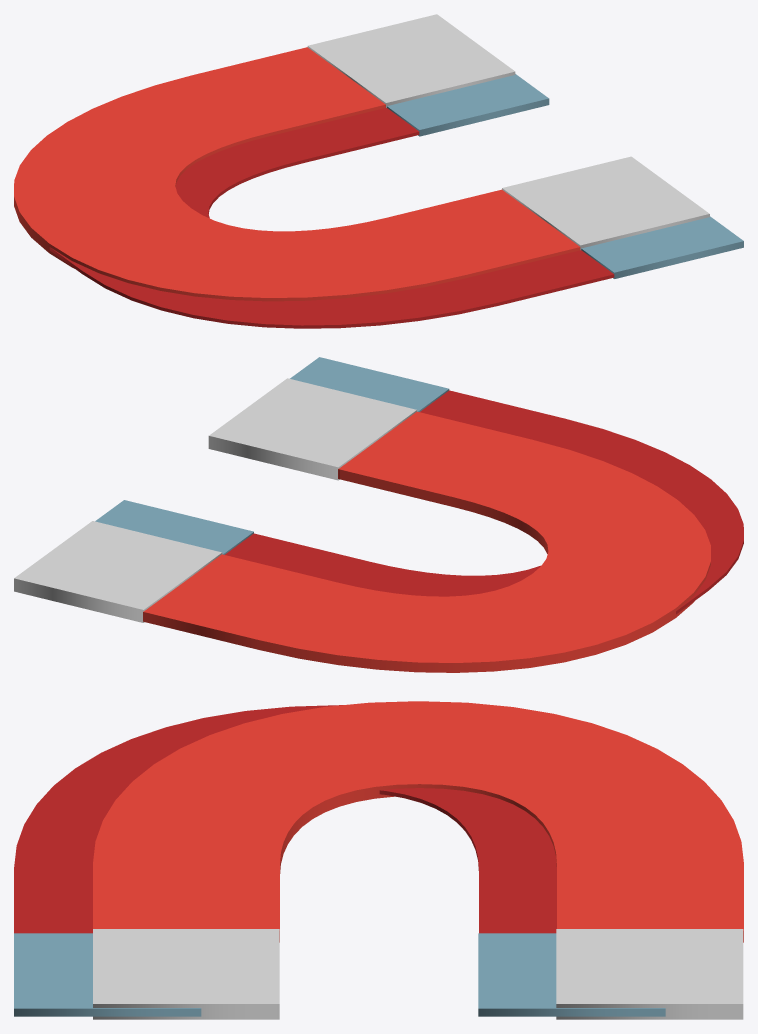
The model's file is emoji_u1f9f2.glb.
The picture shows the model from 3 angles, top to bottom: view 1: azimuth 30°, elevation 25°; view 2: azimuth 150°, elevation 25°; view 3: azimuth 270°, elevation 25°; orthographic projection. The views are drawn at different scales.
Parts seen in each view (by area): view 1: emoji_u1f9f2; view 2: emoji_u1f9f2; view 3: emoji_u1f9f2.
Part boxes in pixels (x1,y1,x2,y2): emoji_u1f9f2: (14,14,743,328); emoji_u1f9f2: (14,357,743,672); emoji_u1f9f2: (14,701,743,1019).
Size of the model in its own units: 0.0335 by 0.0008 by 0.0338.
